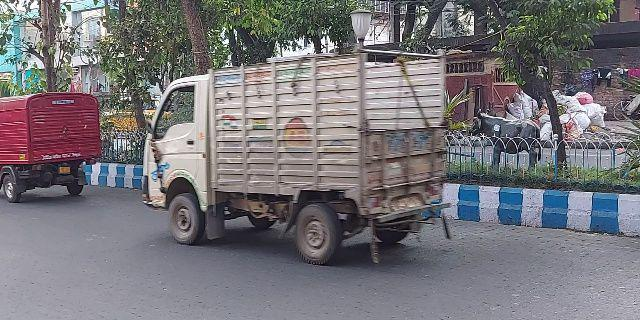Minitruck: (140, 49, 451, 264), (1, 89, 104, 199)
